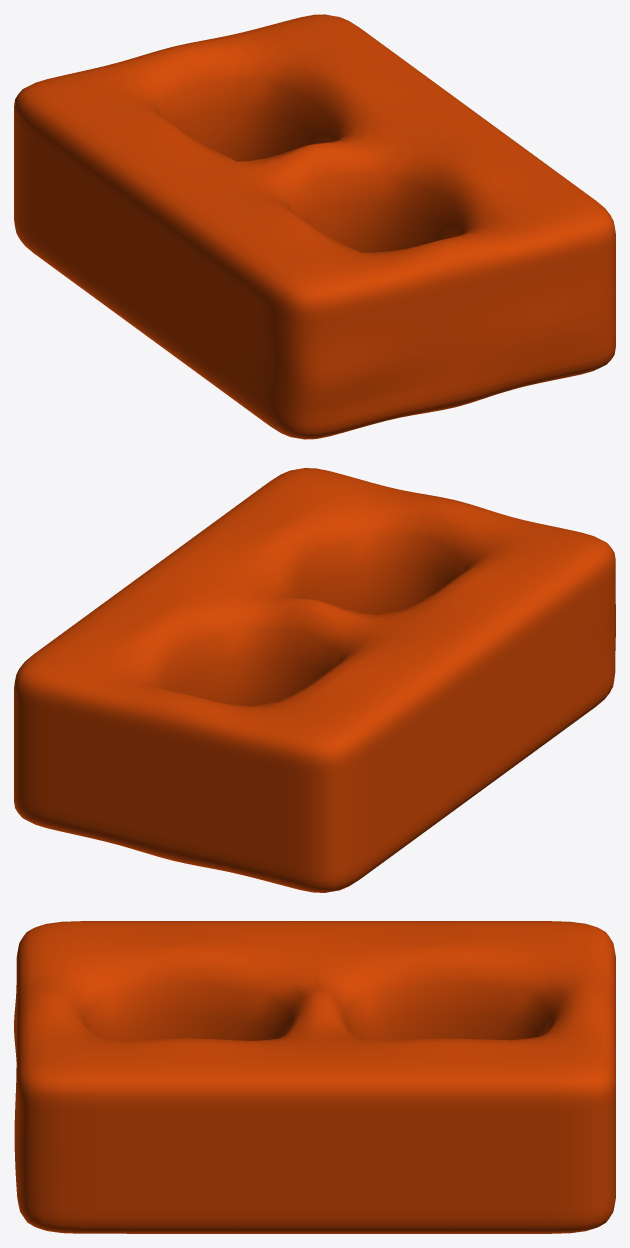
Rendered from Brick_3D_Model.fbx.
3 renders of one model, top to bottom at view 1: azimuth 30°, elevation 25°; view 2: azimuth 150°, elevation 25°; view 3: azimuth 270°, elevation 25°, orthographic.
Parts seen in each view (by area): view 1: pCube1; view 2: pCube1; view 3: pCube1.
Boxes of the visible parts, <box> form: pCube1: <box>14,14,615,439</box>; pCube1: <box>14,468,615,892</box>; pCube1: <box>14,921,615,1233</box>.
Bounding box in the file's own units: 0.4024 × 0.1885 × 0.6117.
